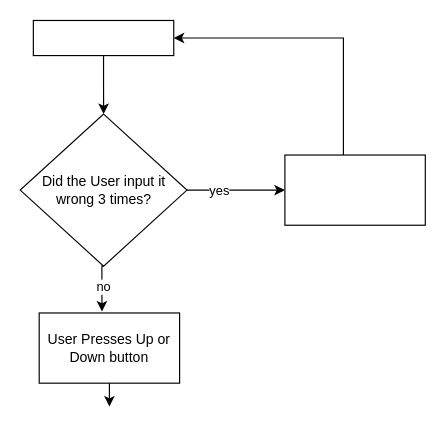
Image size: 447x436. Some labels were removed from this diagram. Here are the shapes that lost their labels. From the top down, the centre of each, then its label:
point (103, 37): User Inputs employee code
point (354, 189): Alarm turns on and user is locked in until admin access code is given
